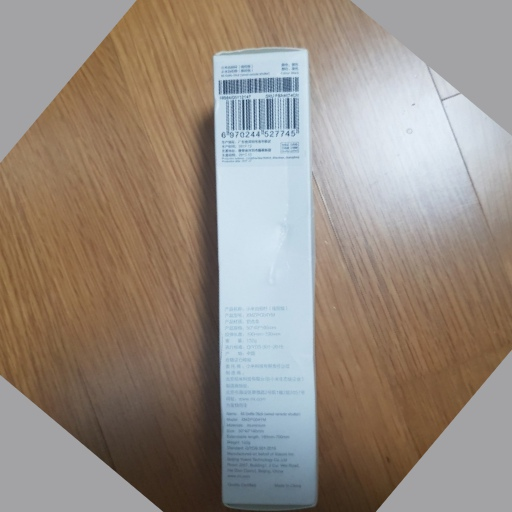Paper_0: (202, 45, 332, 509)
